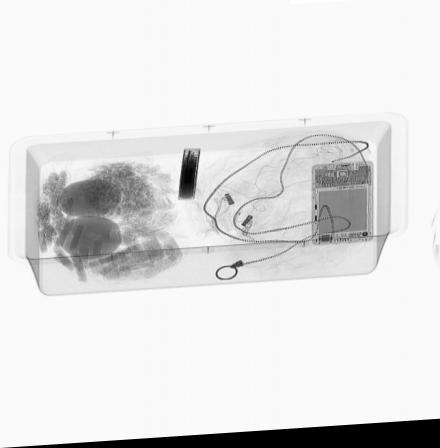Powerbank: (178, 152, 203, 202)
